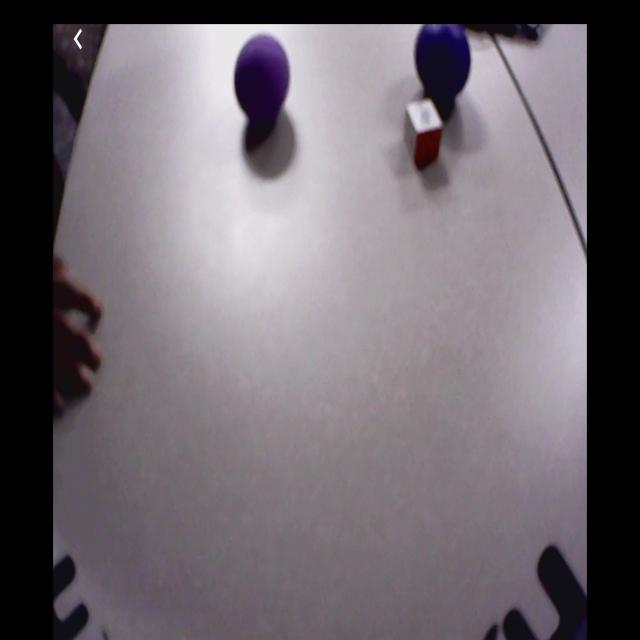ball: (233, 35, 291, 122), (417, 28, 471, 100)
